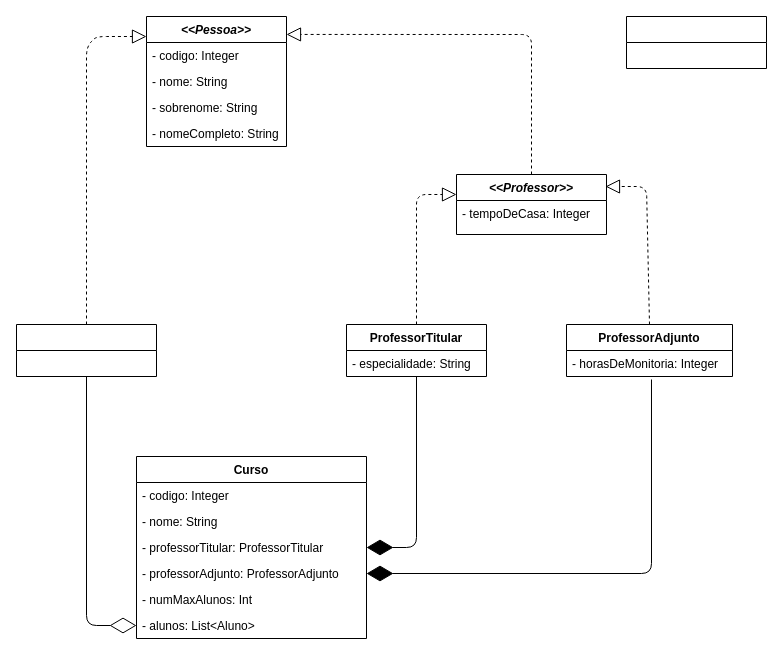
The diagram is 783 pixels wide and 655 high, and some of its shapes have lost their labels. The centre of each missing label's shape, as x and y in pixels:
"Aluno" belongs at (86,350).
"Main" belongs at (696,42).
